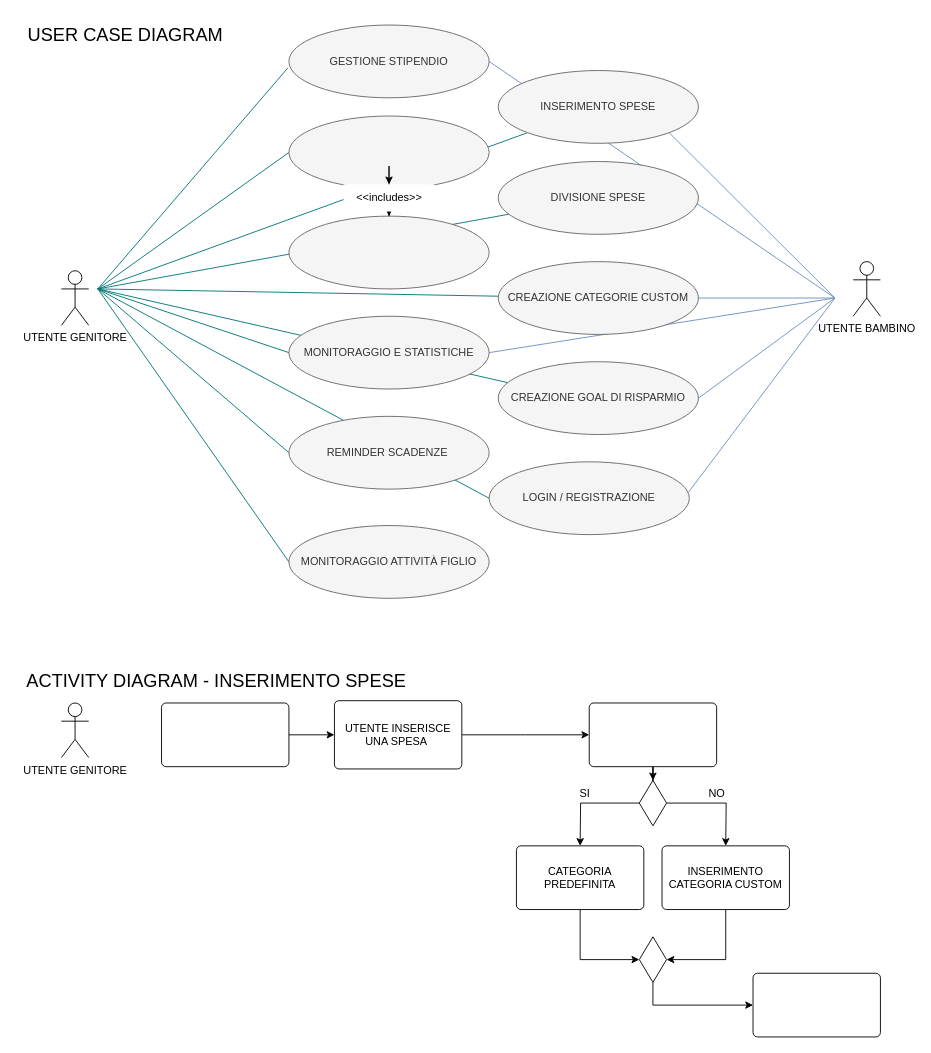
The diagram is 931 pixels wide and 1053 high, and some of its shapes have lost their labels. The shapes that lost their labels are listed below. From the top down, each one's centre as x and y in pixels, then its label:
At pixel 388 152: "CREAZIONE ACCOUNT GENITORE".
At pixel 388 252: "CREAZIONE ACCOUNT BAMBINO".
At pixel 225 734: "UTENTE DEFINISCE UNO STIPENDIO".
At pixel 652 734: "UTENTE SCEGLIE LA CATEGORIA".
At pixel 816 1004: "AGGIUNTA ALLE SPESE MENSILI".
